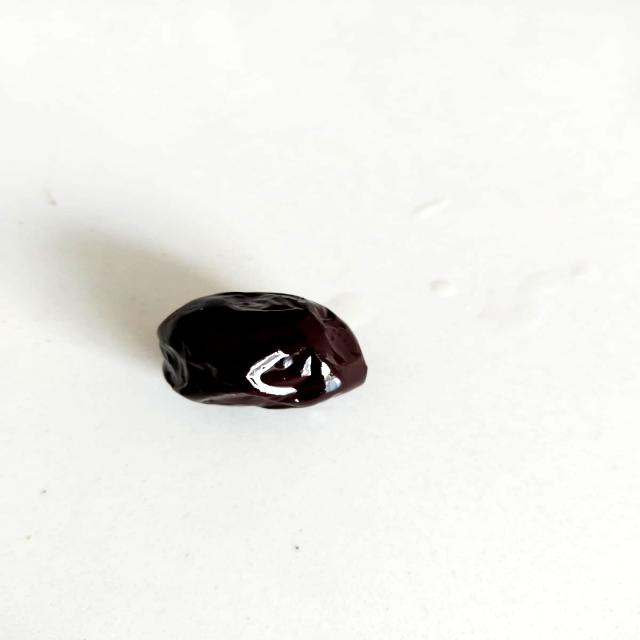olive: (126, 280, 414, 428)
